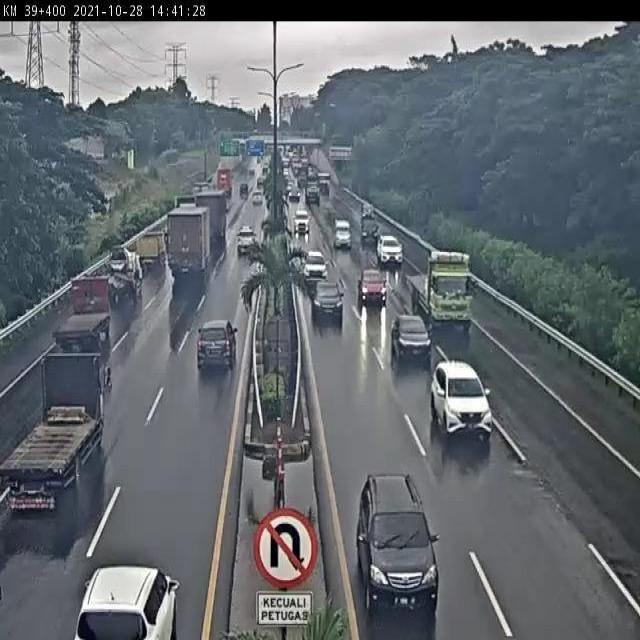car: (355, 476, 439, 617), (75, 560, 181, 640), (429, 360, 493, 441), (196, 319, 237, 372), (389, 316, 431, 367), (310, 280, 343, 323), (357, 268, 387, 305), (302, 250, 328, 282), (377, 235, 404, 265), (235, 225, 257, 255)
mid truck: (165, 207, 211, 274)
small truck: (138, 232, 167, 267)
truck-l-: (406, 245, 472, 328)
truck-m-: (0, 352, 111, 513), (51, 276, 111, 357), (104, 244, 144, 305)
